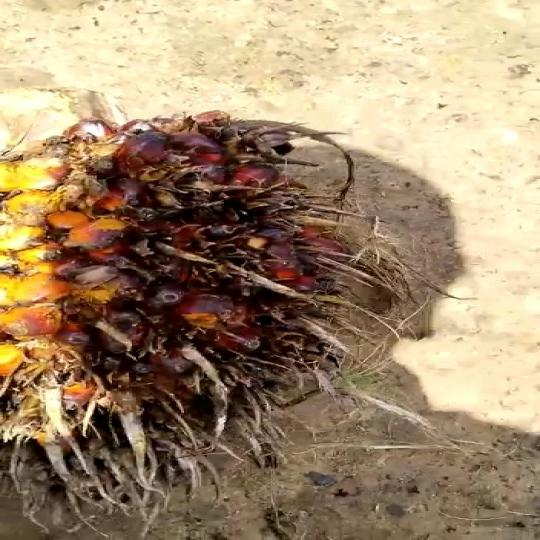terlalu masak: (0, 81, 405, 517)
